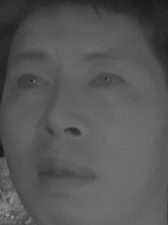eye: (86, 69, 129, 93), (12, 70, 50, 93)
mouth: (33, 153, 97, 191)
